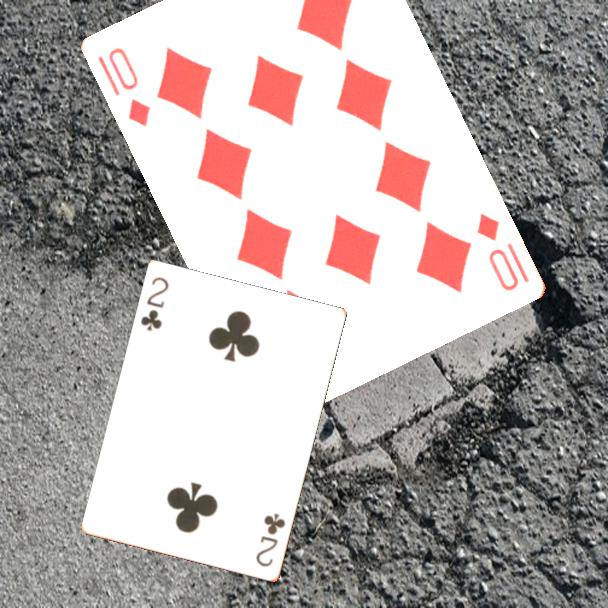c02: (253, 510, 288, 570), (137, 274, 172, 334)
d10: (94, 44, 155, 130), (473, 210, 523, 294)
